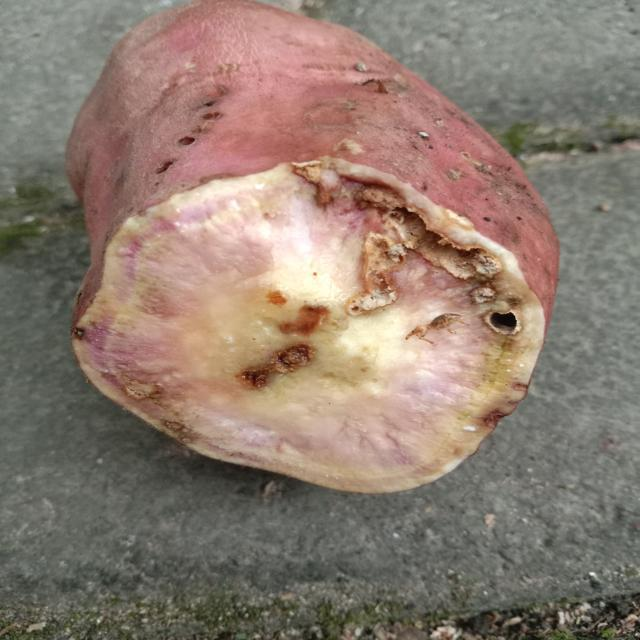Sick Sweet Potato_Tuber Rot: (73, 159, 545, 492)
